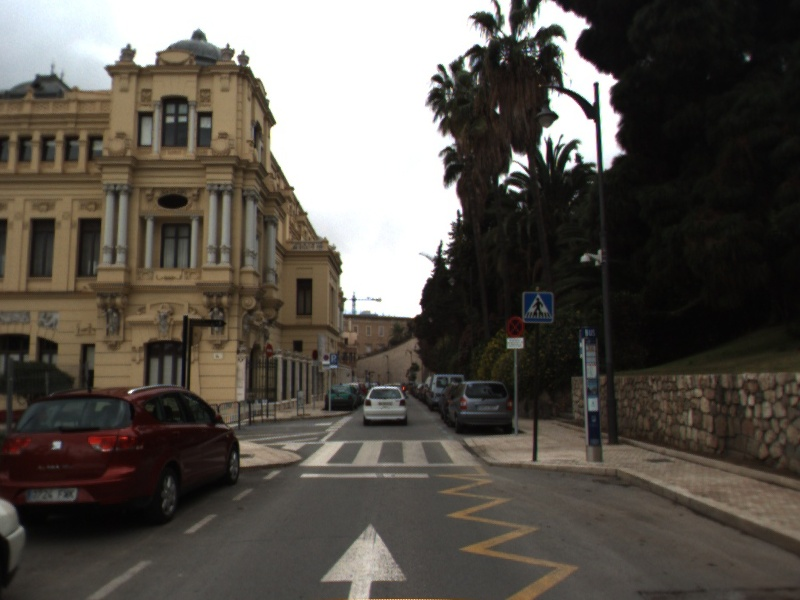STRAIGHT: (317, 518, 411, 600)
